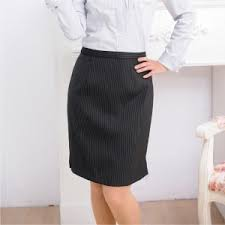F_tailored skirt: (60, 45, 155, 189)
